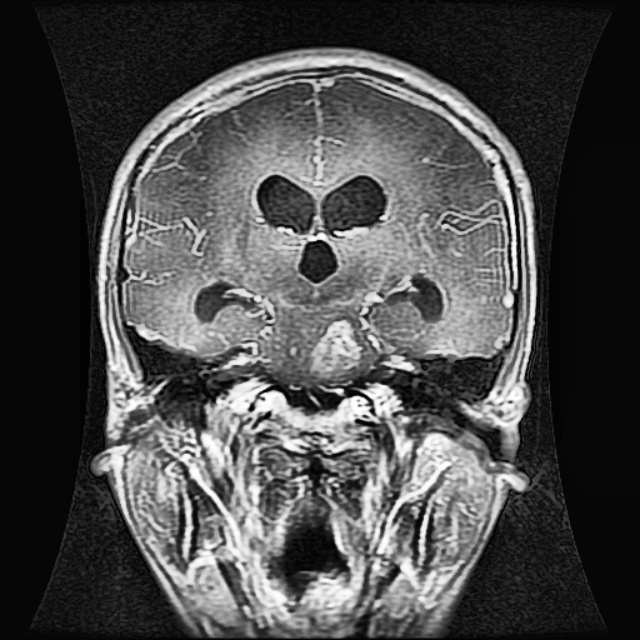Glioma: (308, 318, 364, 387)
